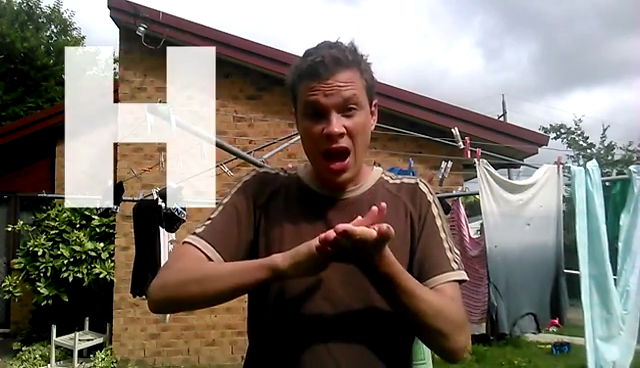H: (272, 200, 402, 286)
